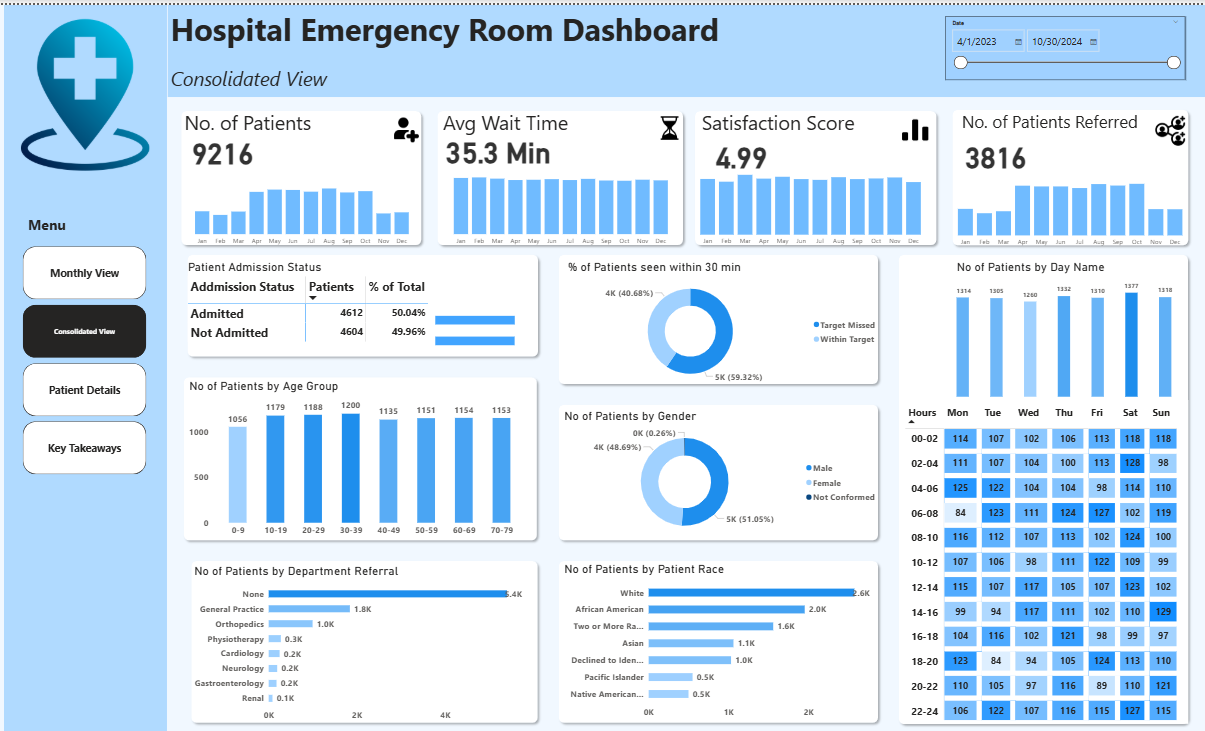

The dashboard page shown, as its layout file describes it:
{"tool":"powerbi","page":{"name":"Consolidated View","canvas":[2300,1400],"ordinal":1},"visuals":[{"type":"shape","box":[9.9,0,310,1399],"z":0},{"type":"shape","box":[320.5,0,1980,175.1],"z":1000},{"type":"textbox","box":[320.5,0,1082.4,108.5],"z":2000},{"type":"textbox","box":[321,109.4,363.8,66.6],"z":3000},{"type":"shape","box":[336.6,193.5,474.4,273],"z":4000},{"type":"card","fields":{"Values":["Hospital ER_Data.No of Patients"]},"box":[347.2,238.5,156.4,76.9],"z":5000},{"type":"slicer","fields":{"Values":["Date Table.Date"]},"box":[1799.9,21.4,456.5,121.3],"z":6000},{"type":"columnChart","fields":{"Category":["Date Table.Month Name"],"Y":["Hospital ER_Data.No of Patients"]},"box":[354.3,294.8,444.6,171.2],"z":7000},{"type":"textbox","box":[347.7,192.3,276.2,66.6],"z":8000},{"type":"shape","box":[1804.9,190.8,466.5,275.6],"z":9000},{"type":"shape","box":[824.3,193.5,485,273],"z":10000},{"type":"card","fields":{"Values":["Hospital ER_Data.Avg Wait Time"]},"box":[837.5,227.9,225.3,92.8],"z":11000},{"type":"columnChart","fields":{"Category":["Date Table.Month Name"],"Y":["Hospital ER_Data.No.of Patients Referred"]},"box":[1804.9,283.6,466.5,185.5],"z":12000},{"type":"textbox","box":[838.3,192.3,278.6,66.6],"z":13000},{"type":"shape","box":[1314.6,193.5,477.1,273],"z":14000},{"type":"card","fields":{"Values":["Hospital ER_Data.Satisfaction Score"]},"box":[1333.1,246.5,156.4,74.2],"z":15000},{"type":"columnChart","fields":{"Category":["Date Table.Month Name"],"Y":["Avg(Hospital ER_Data.Patient Waittime)"]},"box":[845.5,304.8,445.3,161.7],"z":16000},{"type":"textbox","box":[1331.5,192.3,318.1,66.6],"z":17000},{"type":"card","fields":{"Values":["Hospital ER_Data.No.of Patients Referred"]},"box":[1815.5,243.8,159,76.9],"z":18000},{"type":"columnChart","fields":{"Category":["Date Table.Month Name"],"Y":["Hospital ER_Data.Satisfaction Score"]},"box":[1314.6,294.2,458.5,172.3],"z":19000},{"type":"shape","box":[349.5,466,684.8,211.6],"z":20000},{"type":"textbox","box":[1827.1,194.8,411.8,66.6],"z":21000},{"type":"pivotTable","title":"Patient Admission Status","fields":{"Rows":["Hospital ER_Data.Addmission Status"],"Values":["Hospital ER_Data.No of Patients","Divide(Hospital ER_Data.No of Patients, ScopedEval(Hospital ER_Data.No of Patients, []))"]},"box":[354.3,485.1,760.9,214],"z":22000},{"type":"barChart","fields":{"Category":["Hospital ER_Data.Addmission Status"],"Y":["Hospital ER_Data.No of Patients"]},"box":[824.3,559.2,206.7,116.6],"z":23000},{"type":"shape","box":[343.6,699.8,689.6,328.3],"z":24000},{"type":"columnChart","fields":{"Category":["Hospital ER_Data.Age Group"],"Y":["Hospital ER_Data.No of Patients"]},"box":[357.8,710.3,652,310.1],"z":25000},{"type":"shape","box":[356.3,1048.5,676.9,325.7],"z":26000},{"type":"barChart","fields":{"Y":["Hospital ER_Data.No of Patients"],"Category":["Hospital ER_Data.Department Referral"]},"box":[365.8,1062.8,644,310.1],"z":27000},{"type":"shape","box":[1055.7,466,625.3,263.9],"z":28000},{"type":"shape","box":[1055.7,751.4,625.3,275.8],"z":29000},{"type":"donutChart","title":"% of Patients seen within 30 min","fields":{"Category":["Hospital ER_Data.Waittime Status"],"Y":["Hospital ER_Data.No of Patients"]},"box":[1077.1,485.1,603.9,244.9],"z":30000},{"type":"donutChart","title":"No of Patients by Gender","fields":{"Y":["Hospital ER_Data.No of Patients"],"Category":["Hospital ER_Data.Patient Gender"]},"box":[1070,768,611.1,252],"z":31000},{"type":"shape","box":[1055.7,1048.6,625.3,325.7],"z":32000},{"type":"barChart","fields":{"Y":["Hospital ER_Data.No of Patients"],"Category":["Hospital ER_Data.Patient Race"]},"box":[1070,1058.1,611.1,309.1],"z":33000},{"type":"shape","box":[1702.5,466,568.3,910.7],"z":34000},{"type":"pivotTable","fields":{"Rows":["Hospital ER_Data.Waittime Interval"],"Columns":["Date Table.Day Name"],"Values":["Hospital ER_Data.No of Patients"]},"box":[1719.1,751.4,543,615.8],"z":35000},{"type":"columnChart","fields":{"Y":["Hospital ER_Data.No of Patients"],"Category":["Date Table.Day Name"]},"box":[1816.6,485.1,420.9,266.3],"z":36000},{"type":"image","box":[14.3,21.4,299.6,299.6],"z":37000},{"type":"image","box":[739.5,209.2,71.3,57.1],"z":38000},{"type":"image","box":[1241.2,206.9,69,54.7],"z":39000},{"type":"image","box":[1702.5,202.1,80.8,71.3],"z":40000},{"type":"image","box":[2194.6,202.1,66.6,73.7],"z":41000},{"type":"pageNavigator","box":[45.6,458.7,235.3,437],"z":42000},{"type":"textbox","box":[50.4,393.8,230.5,72],"z":42001}]}

Visuals, with their boxes in screenshot pixels (x1, y1, x2, y2), scaled from the page's 2300x1400 canvas onto the 1205x731 screenshot:
shape: (5, 0, 168, 730)
shape: (168, 0, 1204, 91)
textbox: (168, 0, 735, 57)
textbox: (168, 57, 359, 92)
shape: (176, 101, 425, 244)
card - Hospital ER_Data.No of Patients: (182, 125, 264, 165)
slicer - Date Table.Date: (943, 11, 1182, 75)
columnChart - Date Table.Month Name x Hospital ER_Data.No of Patients: (186, 154, 419, 243)
textbox: (182, 100, 327, 135)
shape: (946, 100, 1190, 244)
shape: (432, 101, 686, 244)
card - Hospital ER_Data.Avg Wait Time: (439, 119, 557, 167)
columnChart - Date Table.Month Name x Hospital ER_Data.No.of Patients Referred: (946, 148, 1190, 245)
textbox: (439, 100, 585, 135)
shape: (689, 101, 939, 244)
card - Hospital ER_Data.Satisfaction Score: (698, 129, 780, 167)
columnChart - Date Table.Month Name x Avg(Hospital ER_Data.Patient Waittime): (443, 159, 676, 244)
textbox: (698, 100, 864, 135)
card - Hospital ER_Data.No.of Patients Referred: (951, 127, 1034, 167)
columnChart - Date Table.Month Name x Hospital ER_Data.Satisfaction Score: (689, 154, 929, 244)
shape: (183, 243, 542, 354)
textbox: (957, 102, 1173, 136)
"Patient Admission Status" pivotTable: (186, 253, 584, 365)
barChart - Hospital ER_Data.Addmission Status x Hospital ER_Data.No of Patients: (432, 292, 540, 353)
shape: (180, 365, 541, 537)
columnChart - Hospital ER_Data.Age Group x Hospital ER_Data.No of Patients: (187, 371, 529, 533)
shape: (187, 547, 541, 718)
barChart - Hospital ER_Data.No of Patients x Hospital ER_Data.Department Referral: (192, 555, 529, 717)
shape: (553, 243, 881, 381)
shape: (553, 392, 881, 536)
"% of Patients seen within 30 min" donutChart: (564, 253, 881, 381)
"No of Patients by Gender" donutChart: (561, 401, 881, 533)
shape: (553, 548, 881, 718)
barChart - Hospital ER_Data.No of Patients x Hospital ER_Data.Patient Race: (561, 552, 881, 714)
shape: (892, 243, 1190, 719)
pivotTable - Hospital ER_Data.Waittime Interval x Date Table.Day Name: (901, 392, 1185, 714)
columnChart - Hospital ER_Data.No of Patients x Date Table.Day Name: (952, 253, 1172, 392)
image: (7, 11, 164, 168)
image: (387, 109, 425, 139)
image: (650, 108, 686, 137)
image: (892, 106, 934, 143)
image: (1150, 106, 1185, 144)
pageNavigator: (24, 240, 147, 468)
textbox: (26, 206, 147, 243)
